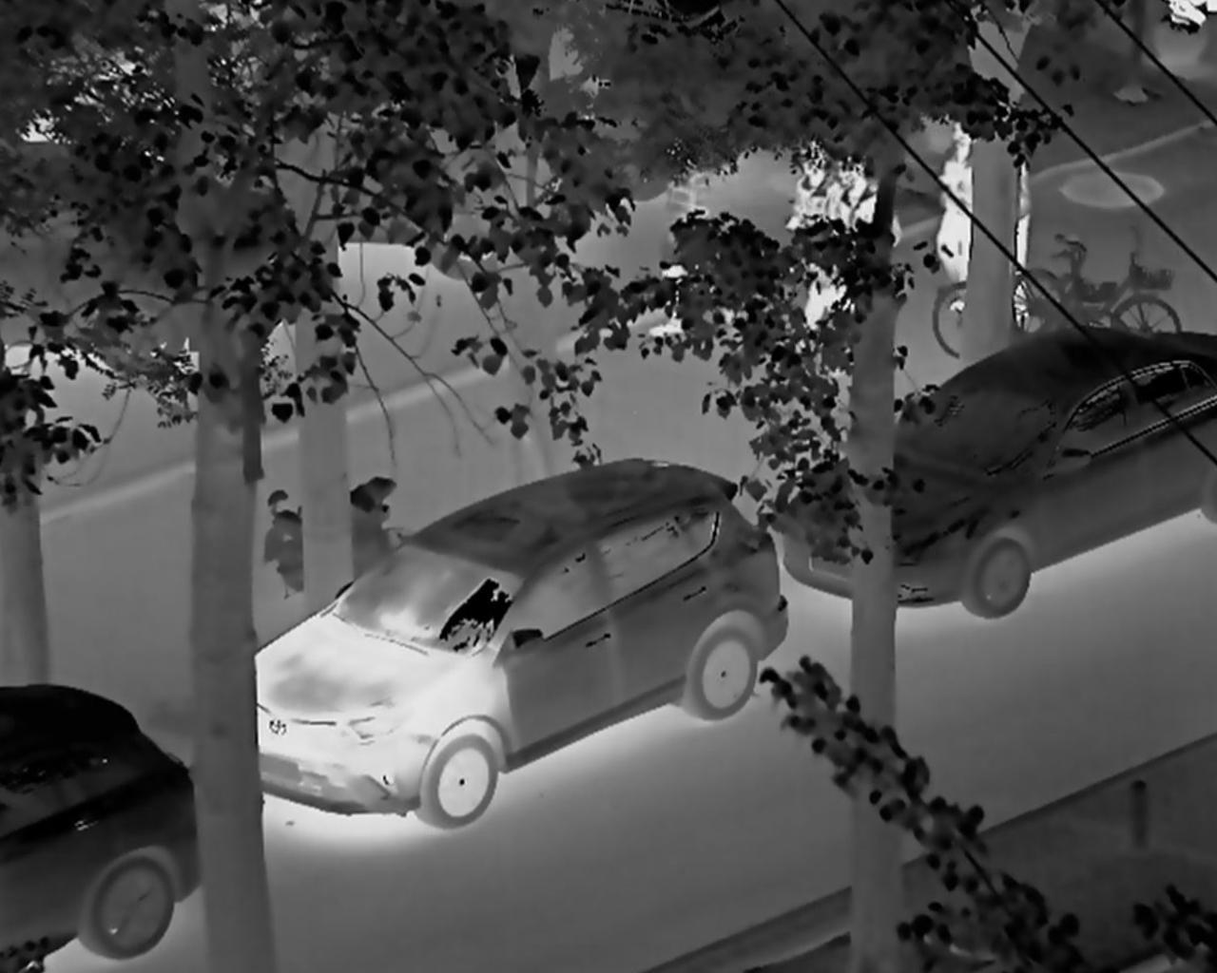person: (827, 146, 890, 342), (932, 114, 984, 327), (782, 143, 837, 327)
